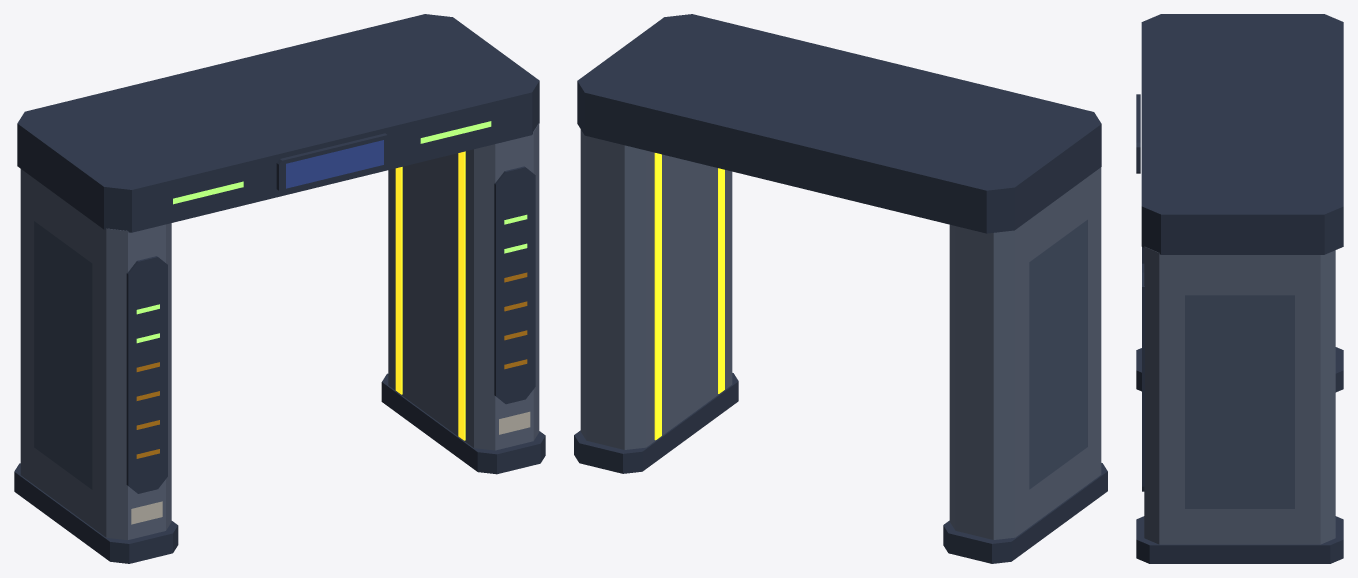
Rendered from lab_bio_scanner_gate.glb.
The picture shows the model from 3 angles, left to right: view 1: azimuth 30°, elevation 25°; view 2: azimuth 150°, elevation 25°; view 3: azimuth 270°, elevation 25°; orthographic projection. The views are drawn at different scales.
Visible parts, largest first — view 1: arch, detector, screened_side, scan_guide, print.002, readout.004, print, readout; view 2: detector, arch, screened_side, scan_guide; view 3: detector, arch, screened_side.
Boxes of the visible parts, x1,y1,x2,y2 form: arch: (14,14,545,563); detector: (20,123,539,540); screened_side: (34,221,91,489); scan_guide: (395,151,465,440); print.002: (286,140,383,188); readout.004: (136,121,527,343); print: (131,411,530,524); readout: (136,272,527,458); detector: (580,129,1101,539); arch: (574,14,1107,563); screened_side: (1029,220,1087,488); scan_guide: (654,153,724,440); detector: (1144,246,1335,544); arch: (1136,14,1343,563); screened_side: (1185,295,1294,508).
Size of the model in its own units: 3.2 by 2.6 by 1.4.
